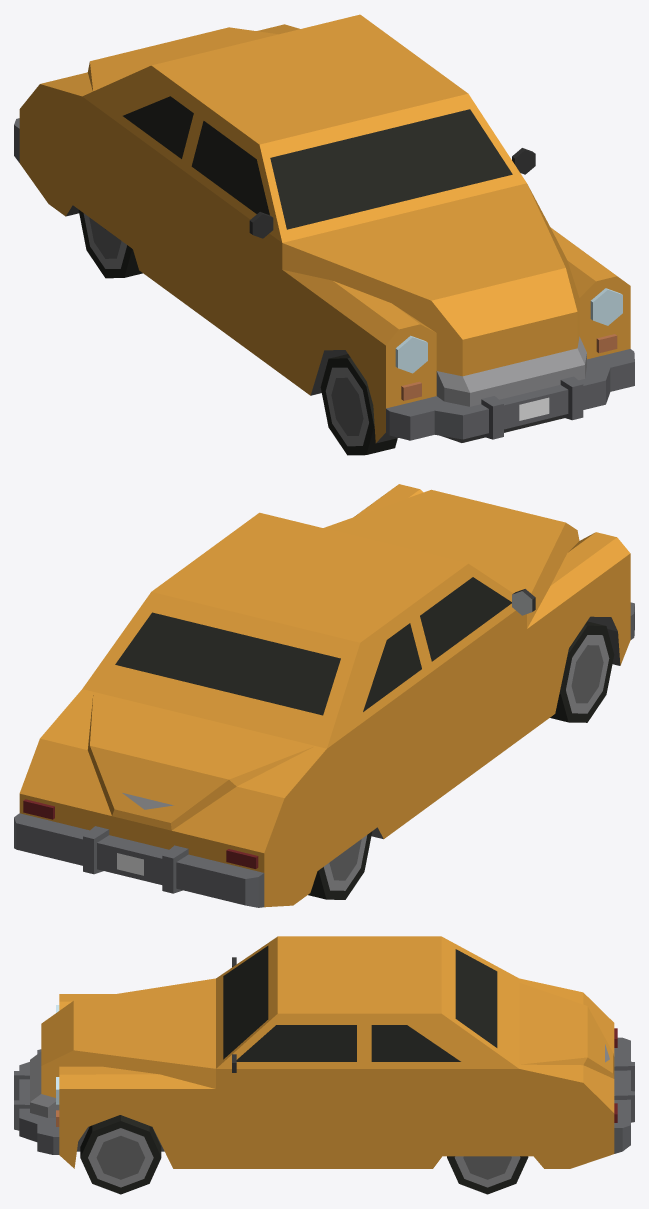
The model's file is Veh_Retro_Car_01_Yellow.glb.
3 renders of one model, top to bottom at view 1: azimuth 30°, elevation 25°; view 2: azimuth 150°, elevation 25°; view 3: azimuth 270°, elevation 25°, orthographic. The views are drawn at different scales.
Parts seen in each view (by area): view 1: Retro_Car_01_Yellow, Wheel_FR, Wheel_RR; view 2: Retro_Car_01_Yellow, Wheel_FR, Wheel_RR; view 3: Retro_Car_01_Yellow, Wheel_FL, Wheel_RL.
Boxes of the visible parts, box(x1,y1,x2,y2) form: Retro_Car_01_Yellow: box(14, 14, 634, 443); Wheel_FR: box(320, 354, 397, 455); Wheel_RR: box(78, 210, 142, 278); Retro_Car_01_Yellow: box(14, 484, 634, 907); Wheel_FR: box(550, 621, 614, 722); Wheel_RR: box(308, 831, 372, 899); Retro_Car_01_Yellow: box(14, 936, 634, 1168); Wheel_FL: box(80, 1115, 161, 1194); Wheel_RL: box(447, 1156, 528, 1194).
Bounding box in the file's own units: 1.1 × 0.863 × 2.77.
Materials: 1 (1 with a texture image).
